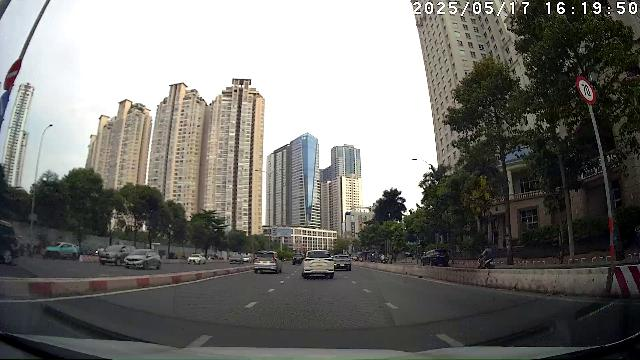127-toc-do-toi-da-70: (576, 74, 596, 105)
